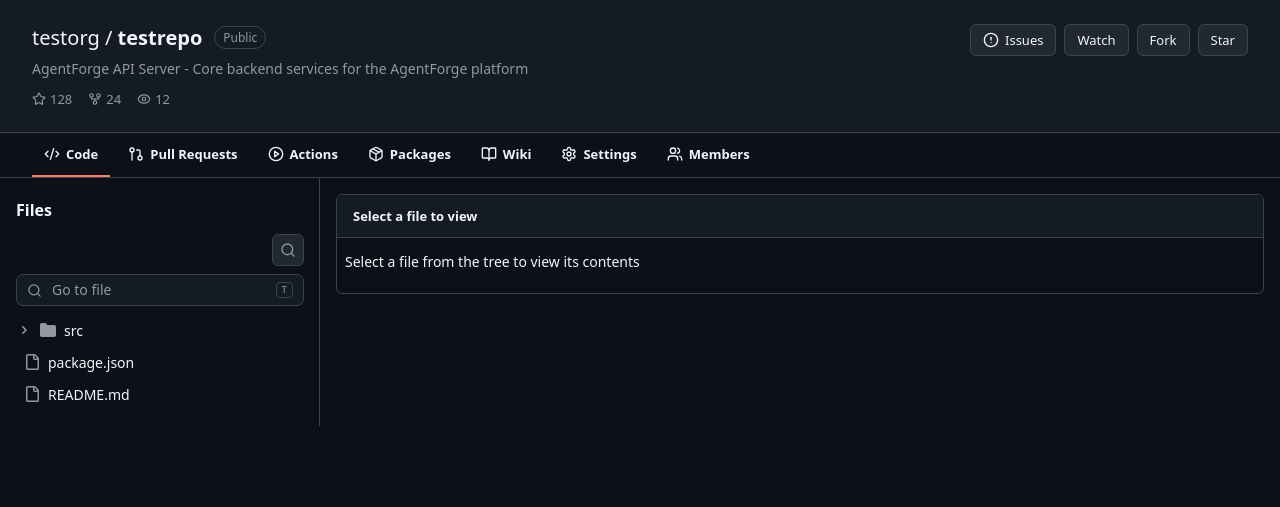
Test case: RepositoryDetailPage - Code Tab › filters the visible file tree as the user types and restores it when cleared
This screenshot has width=1280, height=507.
Click the button "src". click: (24,330)
box: [16, 314, 304, 346]
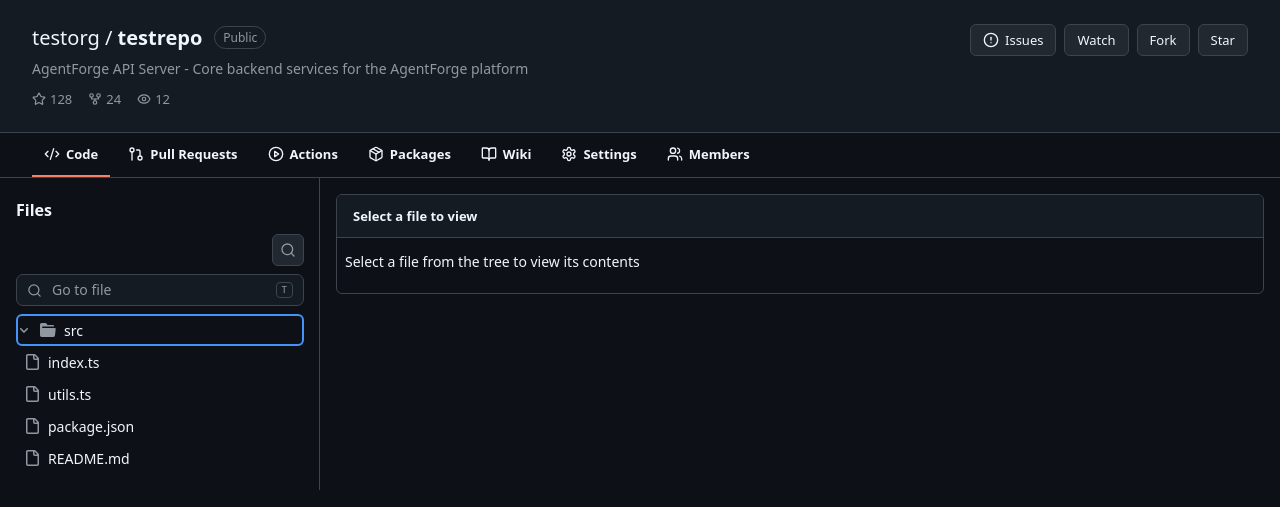
Now the button "index.ts" is shown, box [16, 346, 304, 378]
Type "UTIL" into the field labelled "Go to file". click: (159,290)
box: [50, 280, 268, 300]
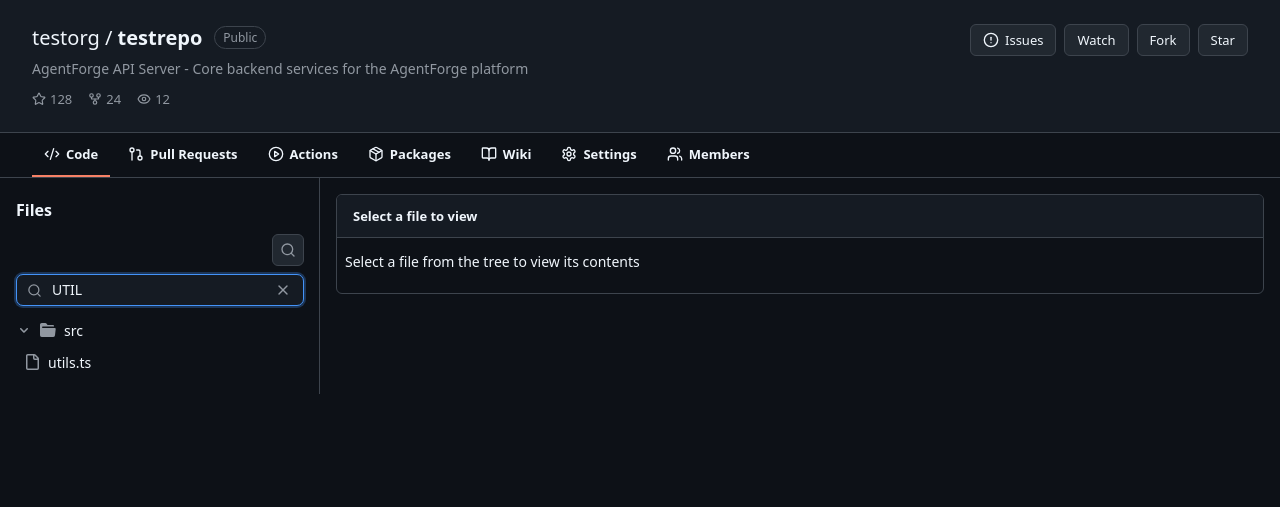
Now the button "utils.ts" is shown, box [16, 346, 304, 378]
Now the button "index.ts" is gone
Now the button "README.md" is gone
Click the button named "Clear search". click: (283,290)
box: [273, 280, 293, 300]
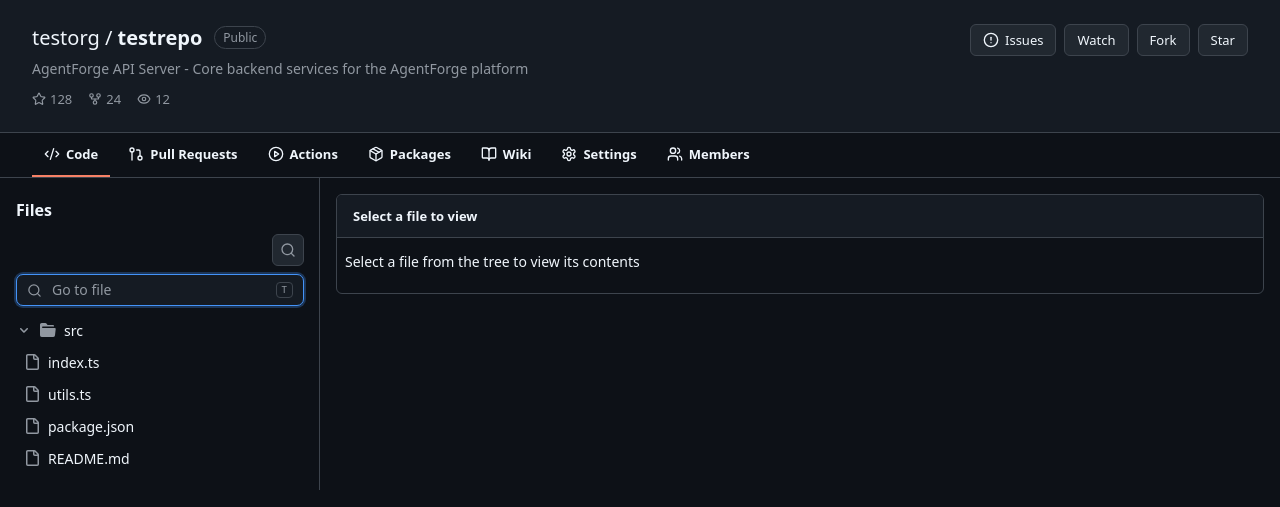
Now the button "src" is expanded, box [16, 314, 304, 346]
Now the button "index.ts" is shown, box [16, 346, 304, 378]
Now the button "README.md" is shown, box [16, 442, 304, 474]
